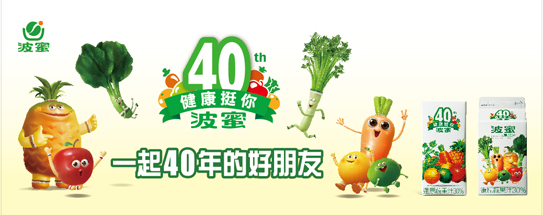vegetables juice: (419, 94, 469, 201), (477, 114, 528, 199)
